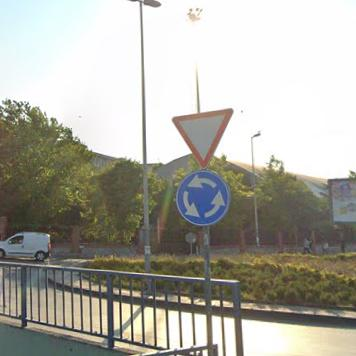crossroads: (179, 173, 231, 225)
